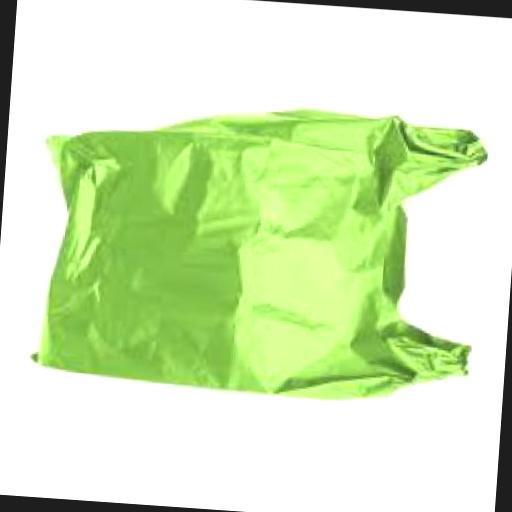plastic: (30, 88, 492, 406)
